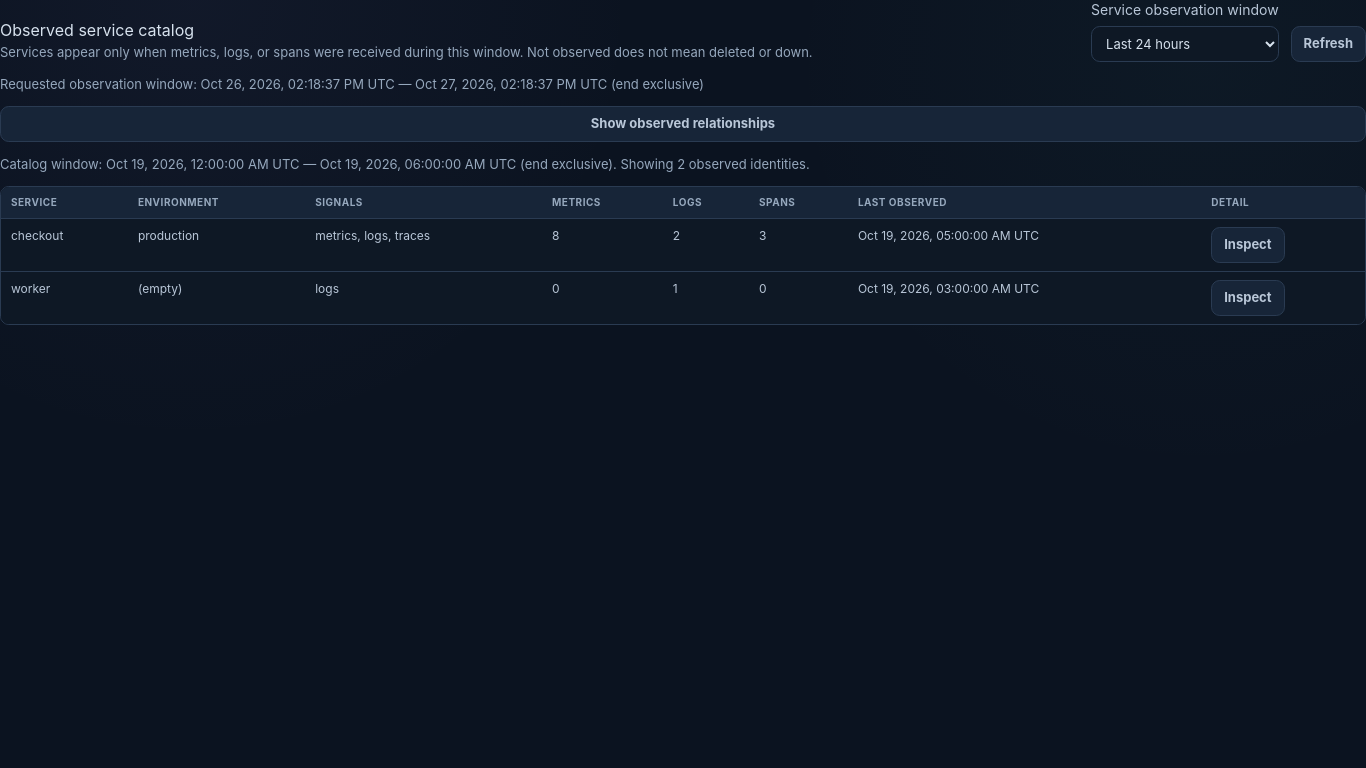
Test case: ServicesWorkspace › shows detail for exact service/environment without fabricating health
Click the button with aria-label "Inspect checkout, environment production". click: x=1248, y=245
box: [1211,227,1285,263]
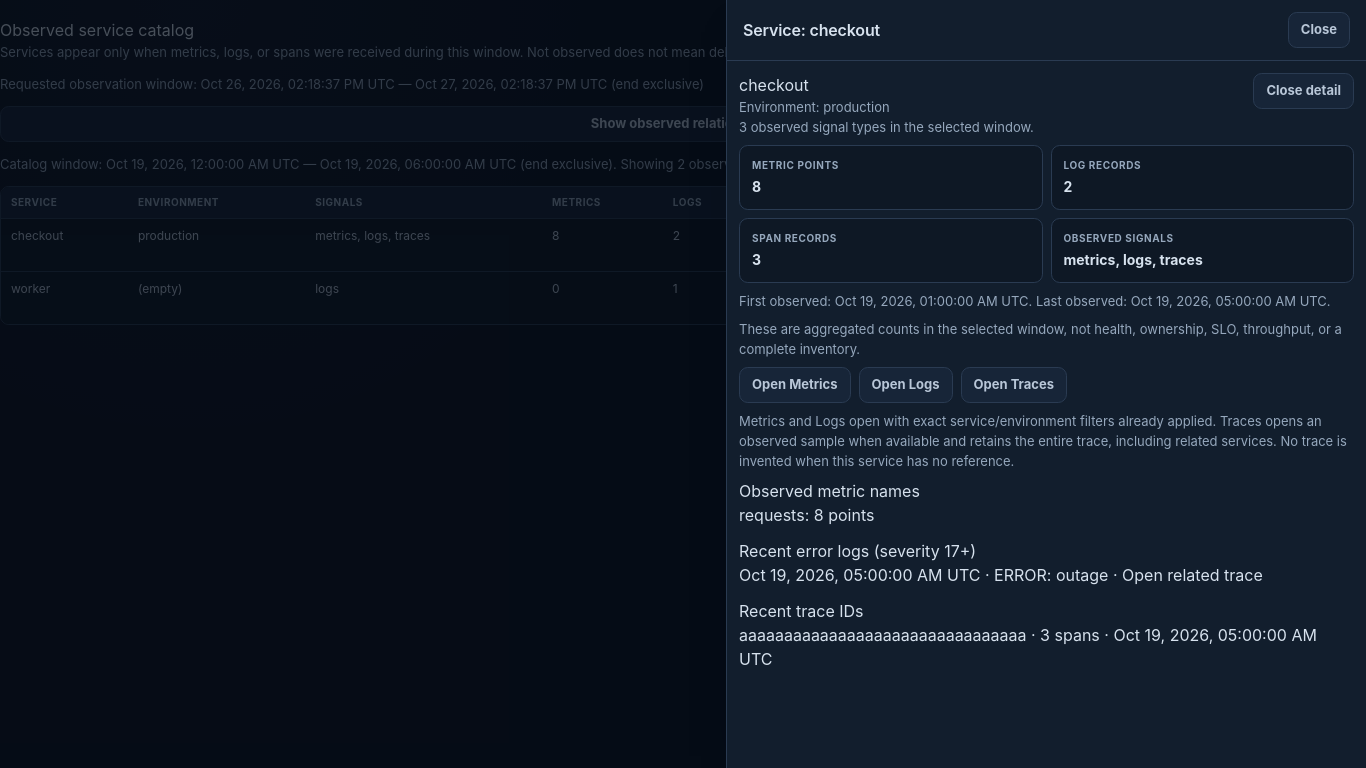
Now the element named "Service detail" is shown, box [739,73,1354,671]
Now the dialog "Service: checkout" is shown, box [726,0,1365,767]
Now the text "First observed:" is shown, box [739,293,835,309]
